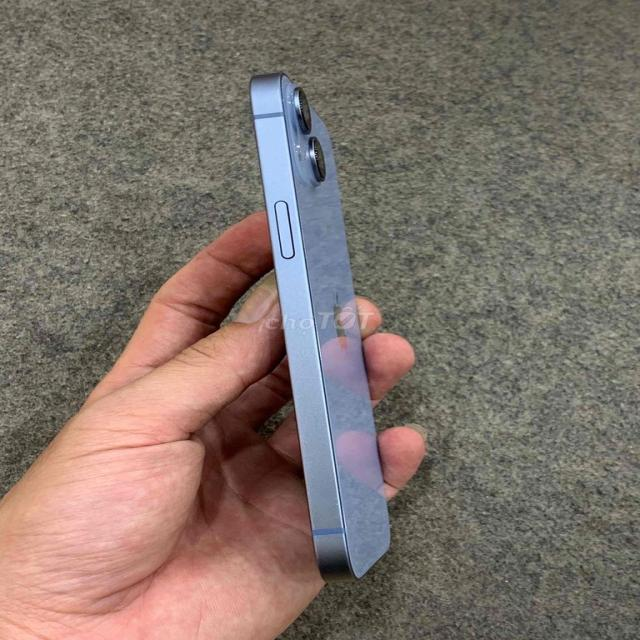gen_14: (246, 65, 400, 587)
